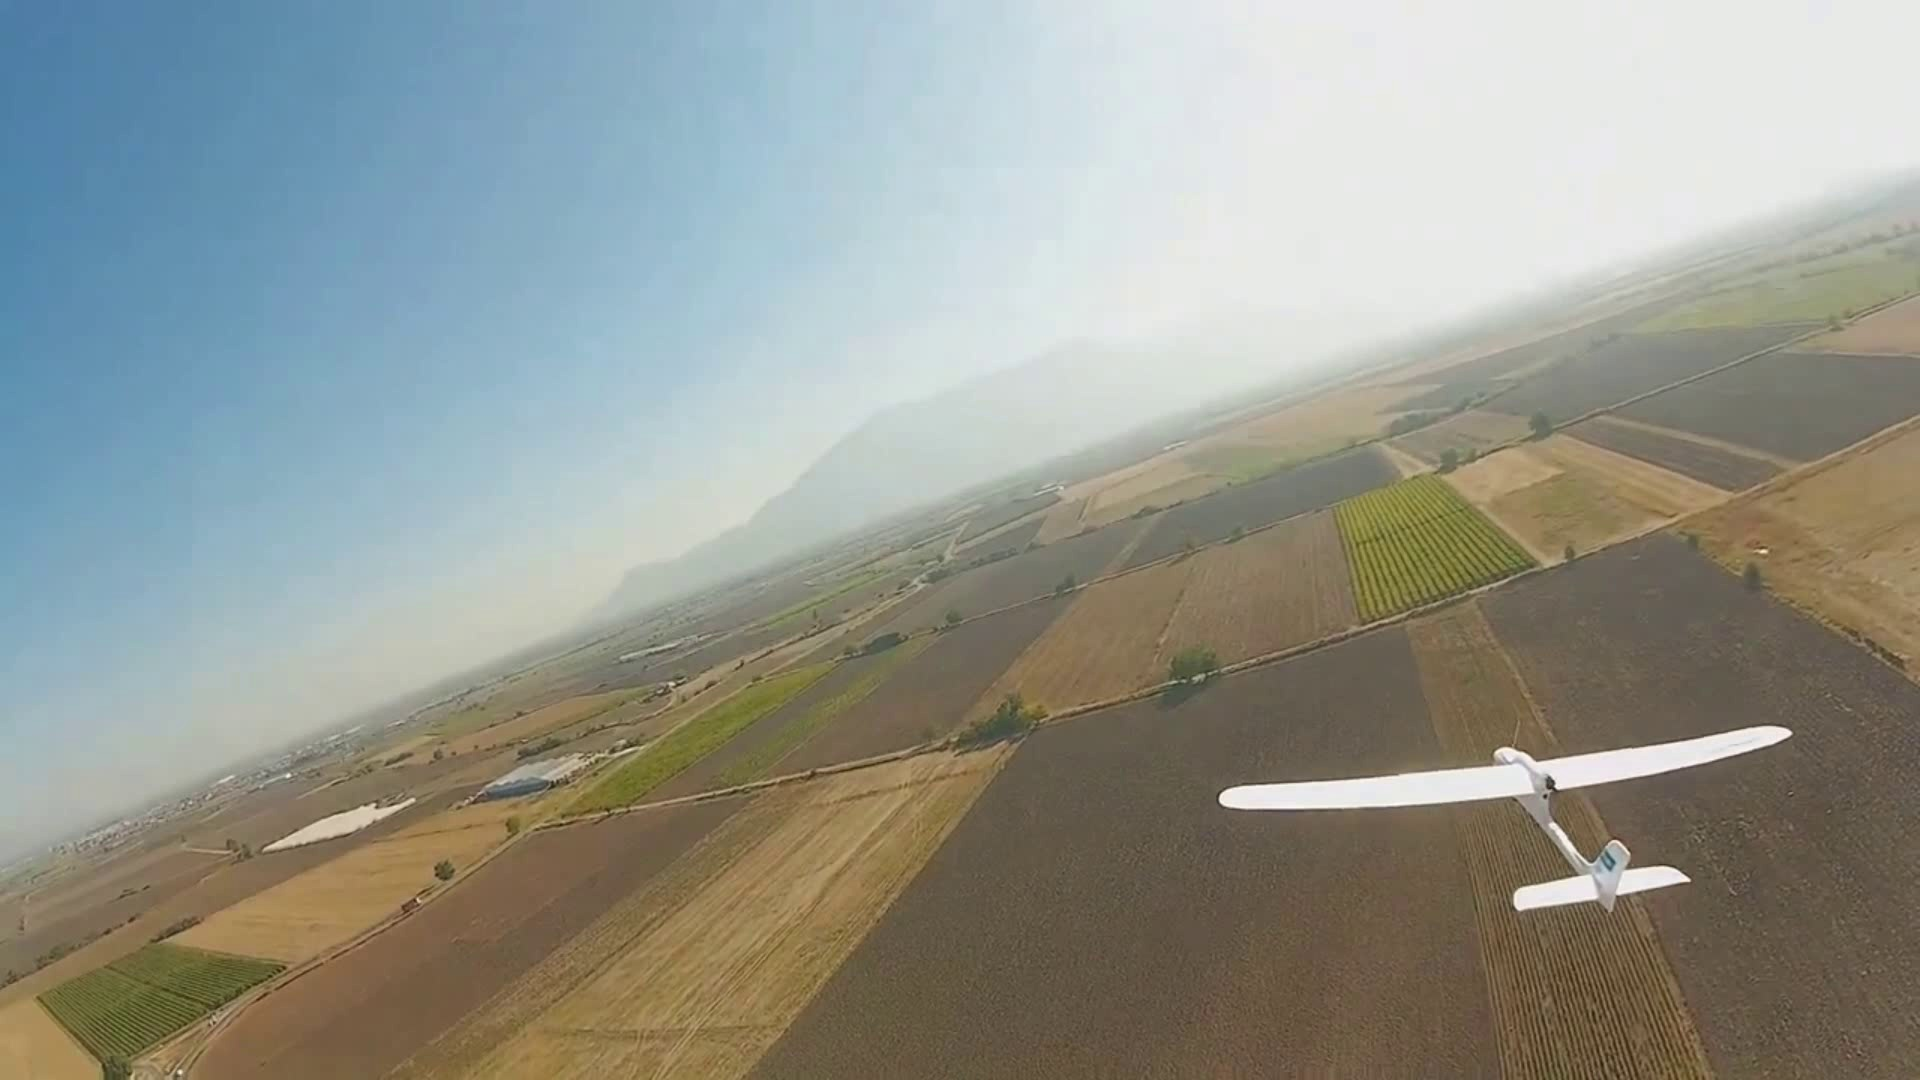airplane: (1215, 725, 1790, 913)
